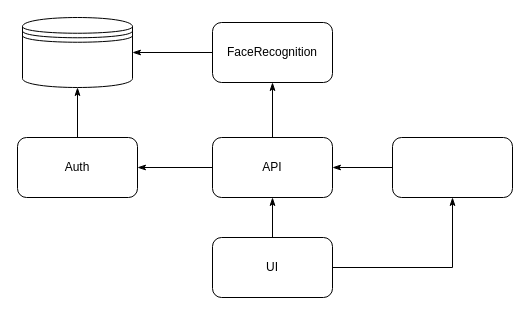
This 530x315 diagram has some shape labels left out. Each missing label, with the centre of its shape:
"FaceEmbedding" belongs at (x=452, y=167).
"PostgreSQL DB" belongs at (x=77, y=52).
